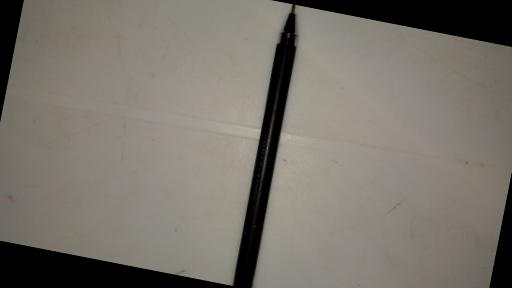pen: (229, 2, 305, 288)
